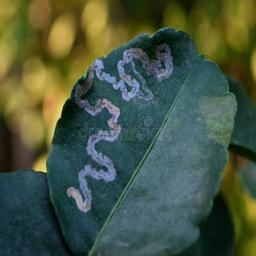liriomyza: (66, 42, 174, 213)
